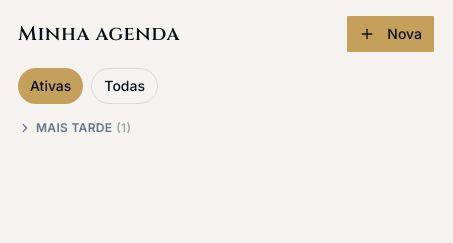
Test: Início — agenda de atividades › grupo futuro nasce recolhido e expande no toque
Expected: the text "Aluguel" is not shown
Click the button "Mais tarde (1)": (74, 128) top-left (18, 120), bottom-right (434, 136)
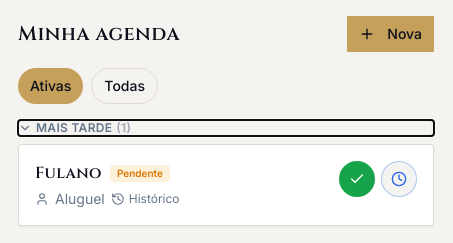
Expected: the button "Mais tarde (1)" is expanded, top-left (18, 120), bottom-right (434, 136)
Expected: the text "Aluguel" is shown, top-left (55, 189), bottom-right (105, 209)
